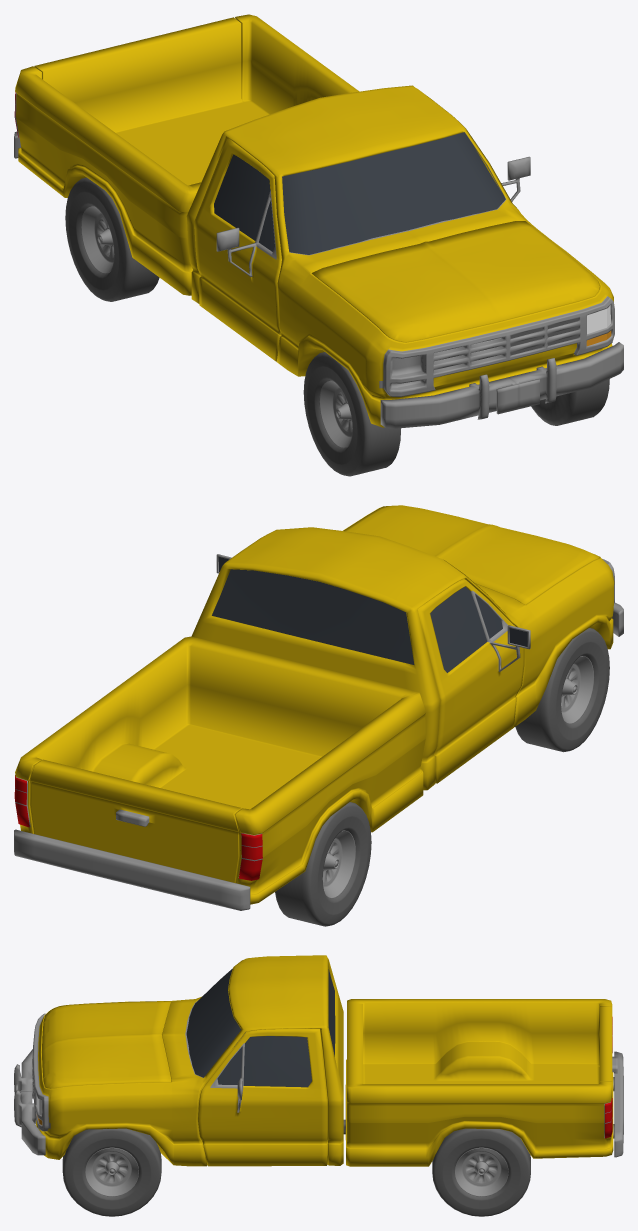
File: PickUp.glb
3 views of the same model, one above another, from view 1: azimuth 30°, elevation 25°; view 2: azimuth 150°, elevation 25°; view 3: azimuth 270°, elevation 25° (orthographic). The views are drawn at different scales.
Visible parts, largest first — view 1: Cube, Cubo, Plane, Círculo.004, Círculo.007, Círculo.001, Círculo.005, Círculo.006, Cubo.004; view 2: Cubo, Cube, Plane, Círculo.007, Círculo.004, Círculo.006, Círculo.005; view 3: Cube, Cubo, Plane, Círculo.001, Círculo.002, Círculo, Círculo.003.
Part boxes in pixels (box(x1,y1,x2,y2)): Cube: box(186, 85, 623, 428); Cubo: box(14, 14, 359, 295); Plane: box(214, 132, 505, 254); Círculo.004: box(303, 352, 400, 476); Círculo.007: box(65, 177, 159, 301); Círculo.001: box(531, 379, 609, 425); Círculo.005: box(319, 380, 352, 448); Círculo.006: box(81, 206, 114, 273); Cubo.004: box(510, 318, 578, 355); Cubo: box(14, 636, 426, 910); Cube: box(191, 505, 623, 790); Plane: box(212, 557, 527, 672); Círculo.007: box(275, 802, 371, 926); Círculo.004: box(515, 628, 609, 752); Círculo.006: box(322, 830, 355, 898); Círculo.005: box(561, 656, 593, 723); Cube: box(14, 955, 343, 1166); Cubo: box(345, 999, 623, 1166); Plane: box(186, 968, 335, 1087); Círculo.001: box(62, 1128, 161, 1216); Círculo.002: box(432, 1128, 530, 1216); Círculo: box(85, 1147, 138, 1196); Círculo.003: box(455, 1147, 508, 1196).
Bounding box in the file's own units: 3.05 × 2.28 × 6.65.
